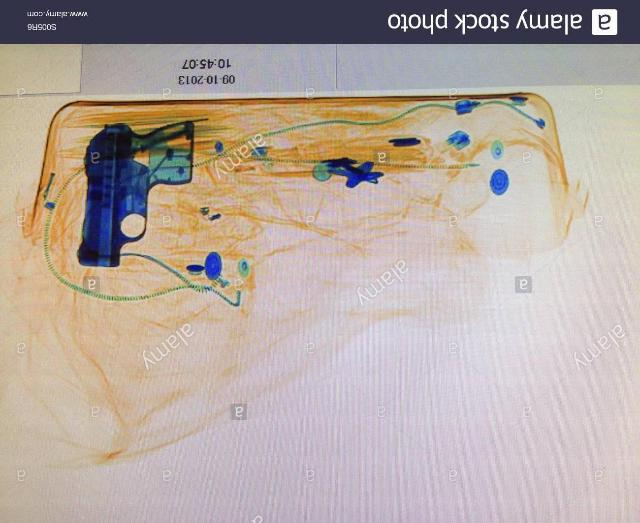Gun: (76, 118, 196, 271)
